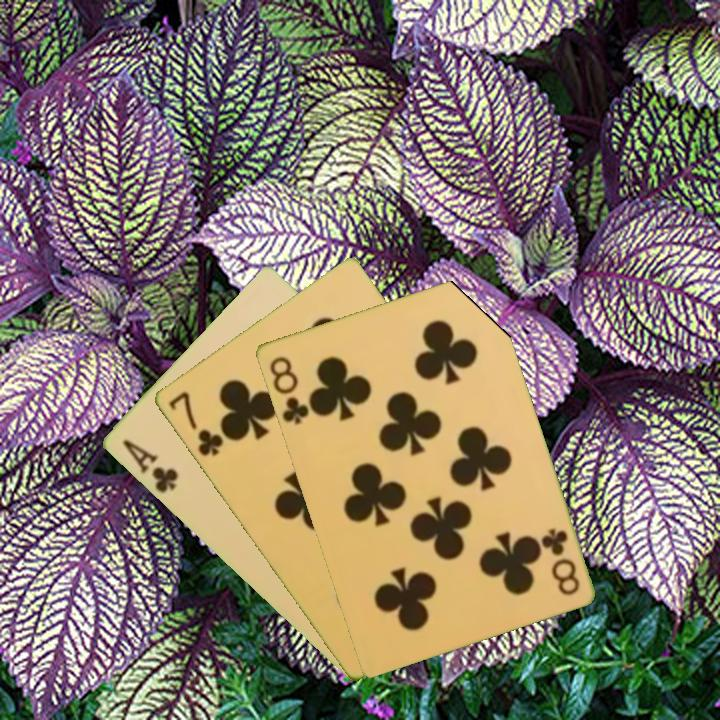7c: (164, 388, 226, 460)
8c: (265, 352, 312, 427), (537, 524, 582, 598)
Ac: (118, 436, 181, 497)
